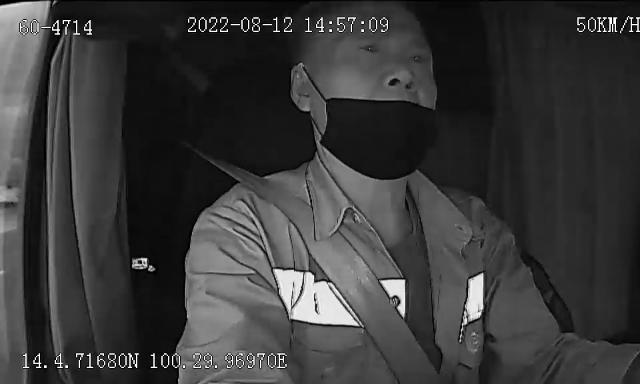SafeDriving: (378, 64, 422, 97)
Seatbelt: (204, 152, 446, 384)
